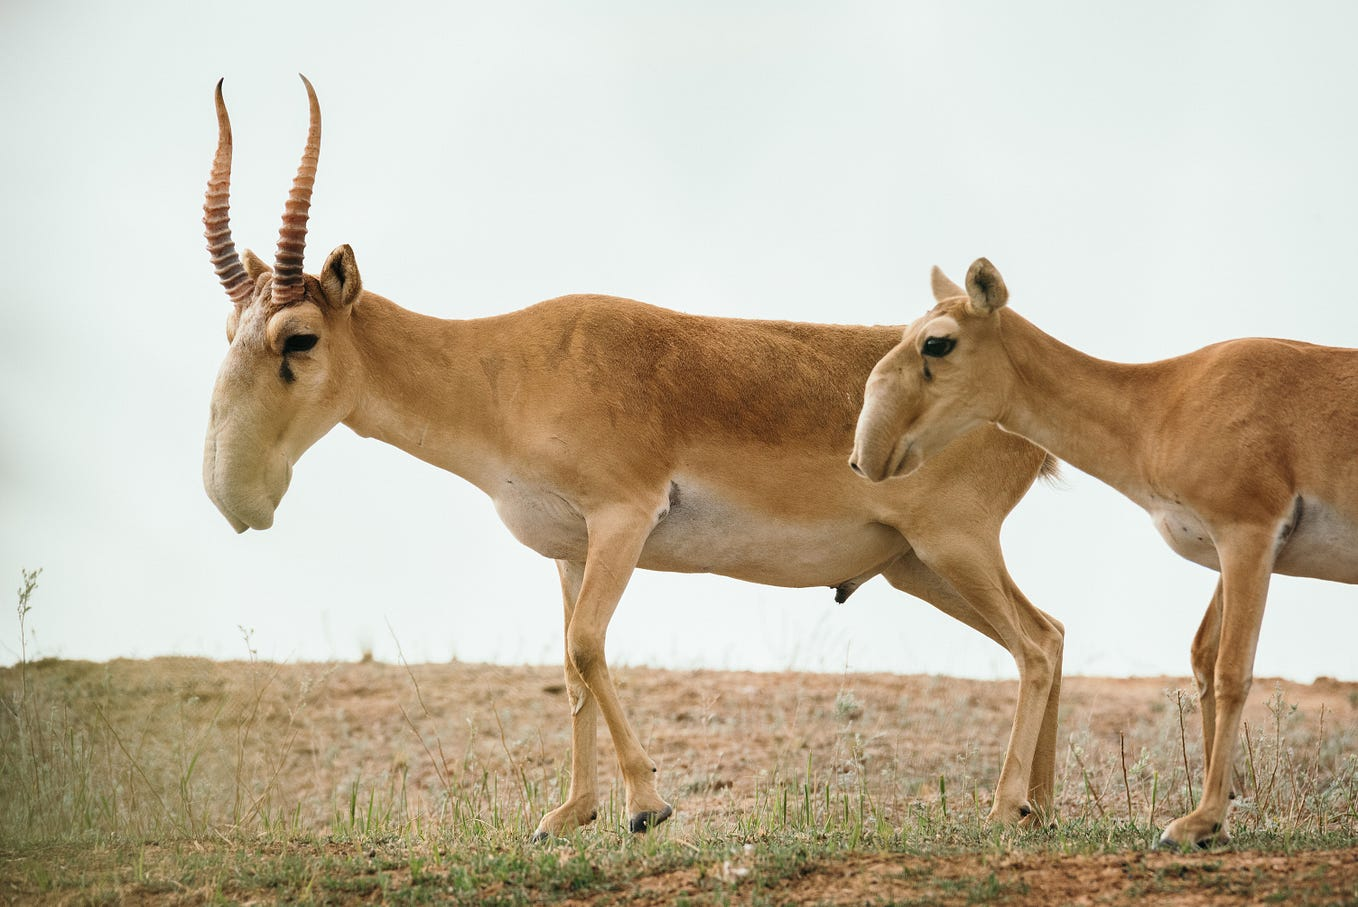saiga: (200, 70, 1084, 857), (843, 250, 1358, 852)
